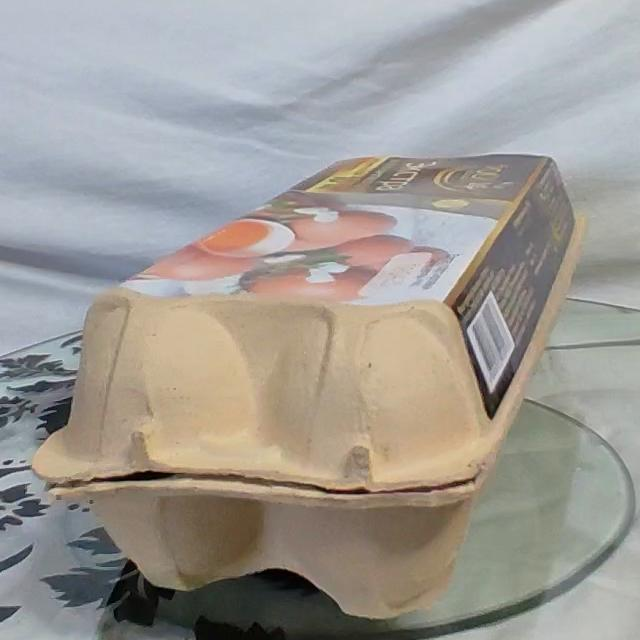egg: (0, 103, 604, 640)
